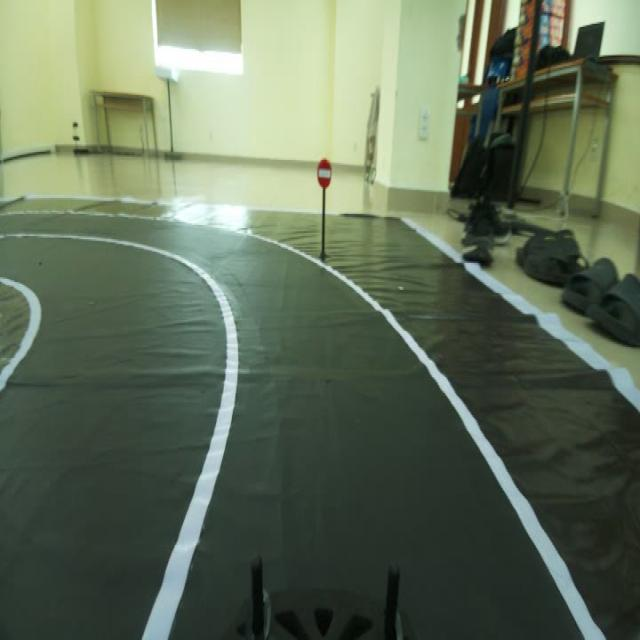no_entry: (314, 159, 334, 194)
